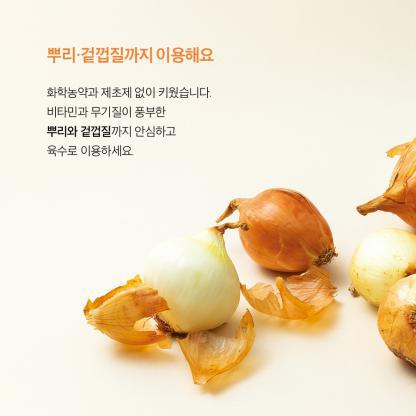onion: (123, 234, 242, 337), (236, 193, 328, 272), (354, 220, 415, 296)
